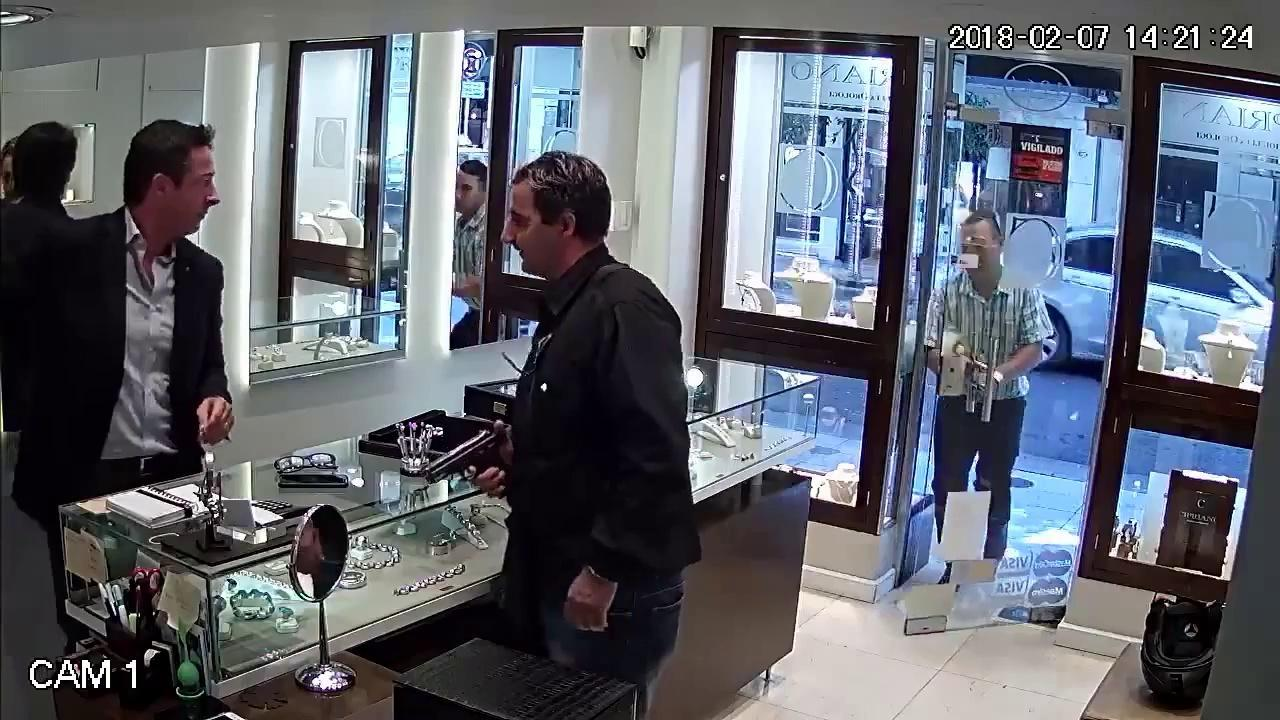Guns: (401, 405, 525, 508)
